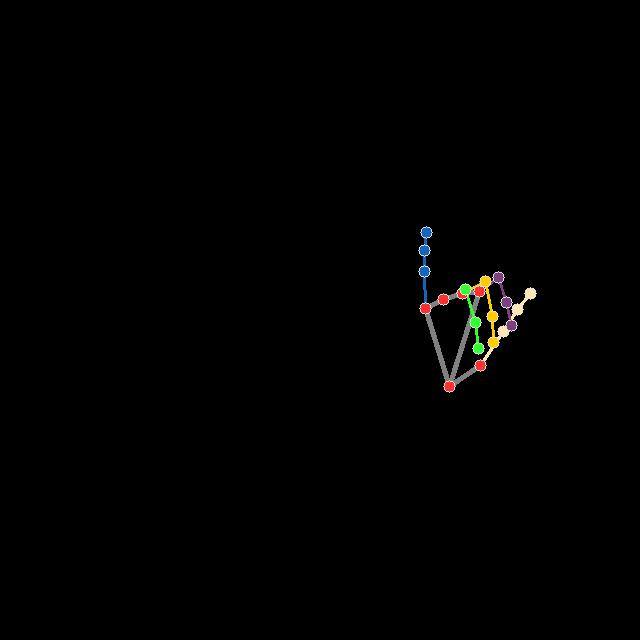skr: (415, 224, 537, 393)
